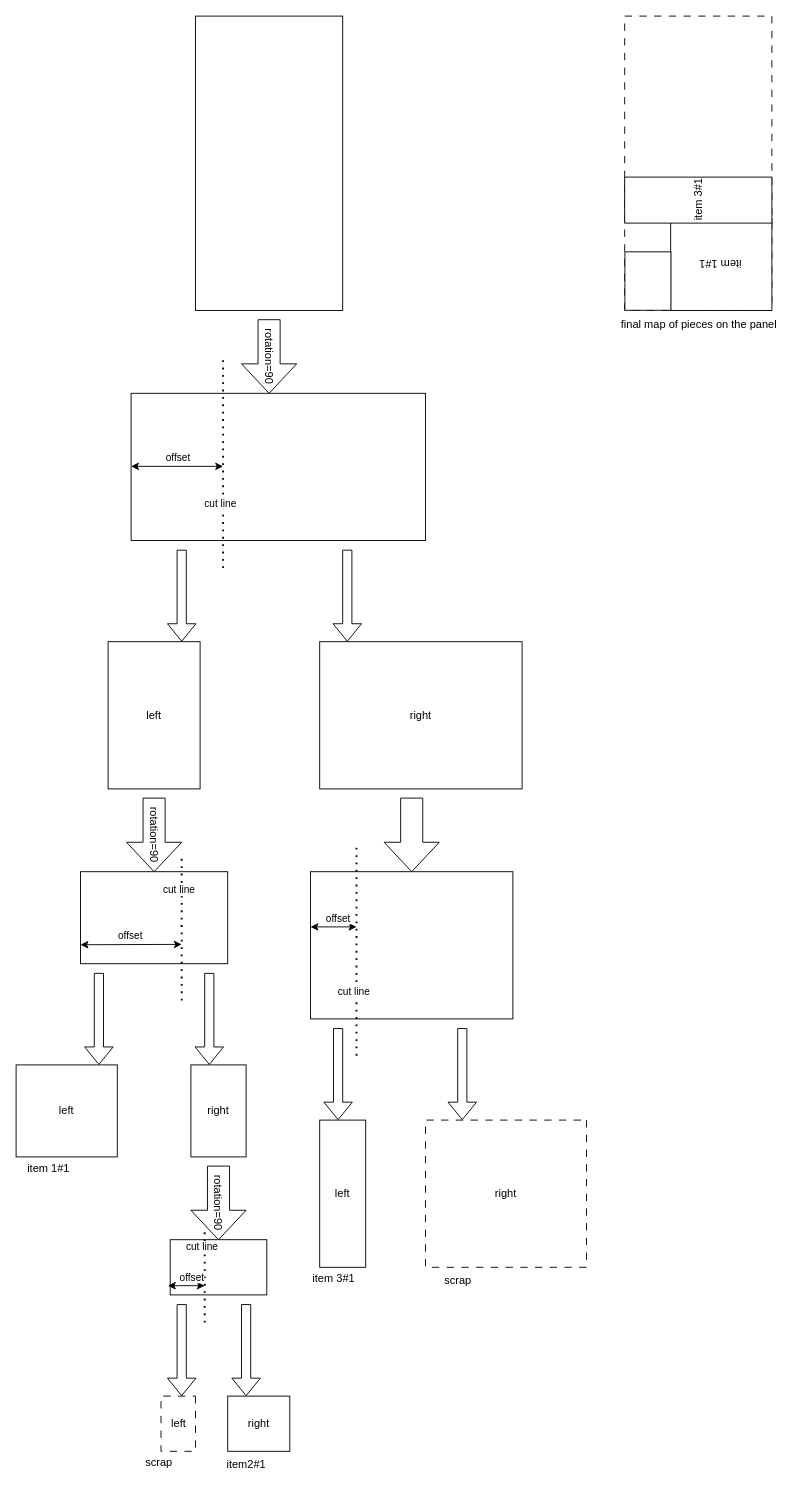
Image size: 801x1495. Some labels were removed from this diagram. The box of each missing label's shape, as (x1, y1, x2, y2) in pixels:
initial panel: (195, 15, 343, 310)
item 2#1: (624, 251, 671, 310)
rotation=0: (383, 797, 439, 872)
